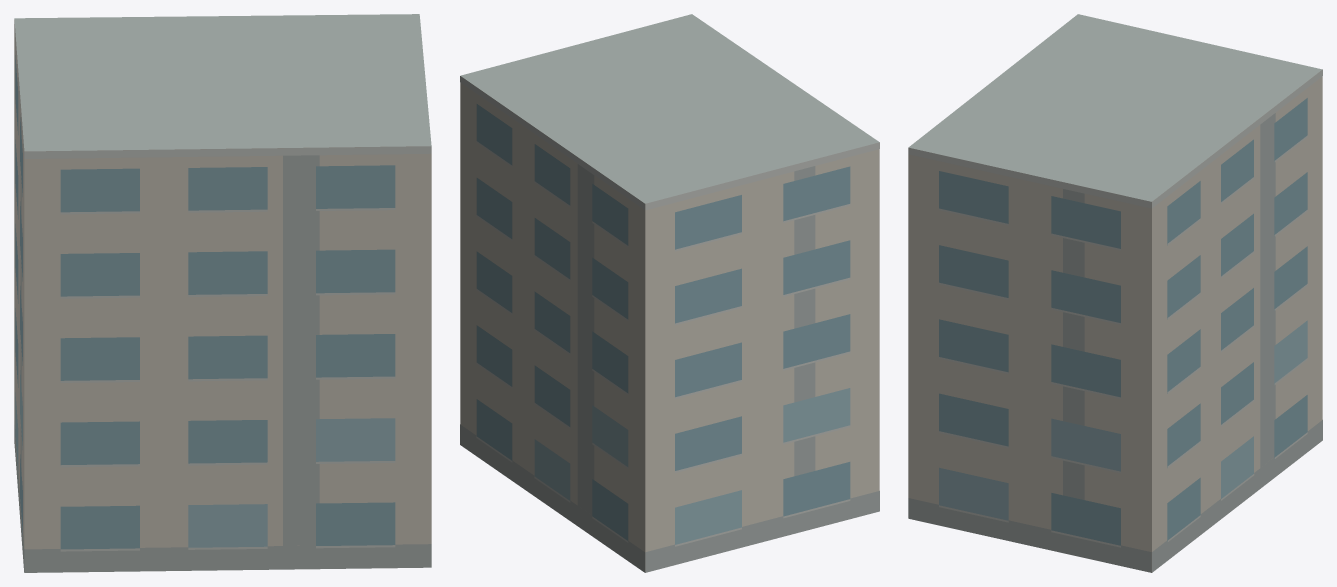
The model's file is survey-upis-32933958.glb.
The picture shows the model from 3 angles, left to right: view 1: azimuth 30°, elevation 25°; view 2: azimuth 150°, elevation 25°; view 3: azimuth 270°, elevation 25°; orthographic projection. The views are drawn at different scales.
Visible parts, largest first — view 1: survey-upis-32933958.tmp; view 2: survey-upis-32933958.tmp; view 3: survey-upis-32933958.tmp.
Part boxes in pixels (x1,y1,x2,y2): survey-upis-32933958.tmp: (14, 14, 431, 572); survey-upis-32933958.tmp: (460, 14, 879, 572); survey-upis-32933958.tmp: (908, 14, 1322, 572).
Size of the model in its own units: 14.56 by 13.4 by 13.57.
